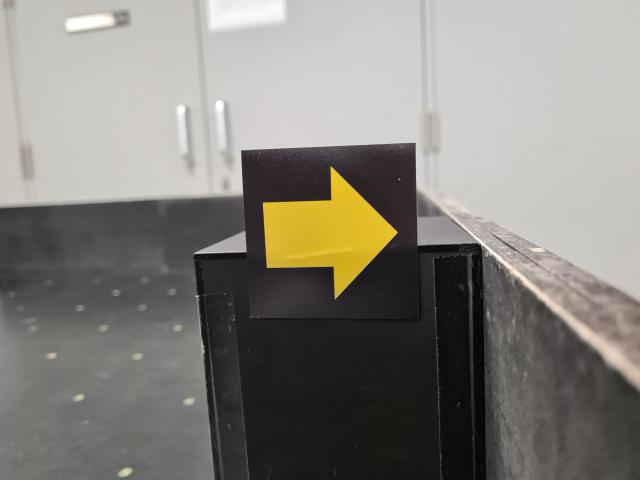right_arrow: (241, 142, 422, 323)
